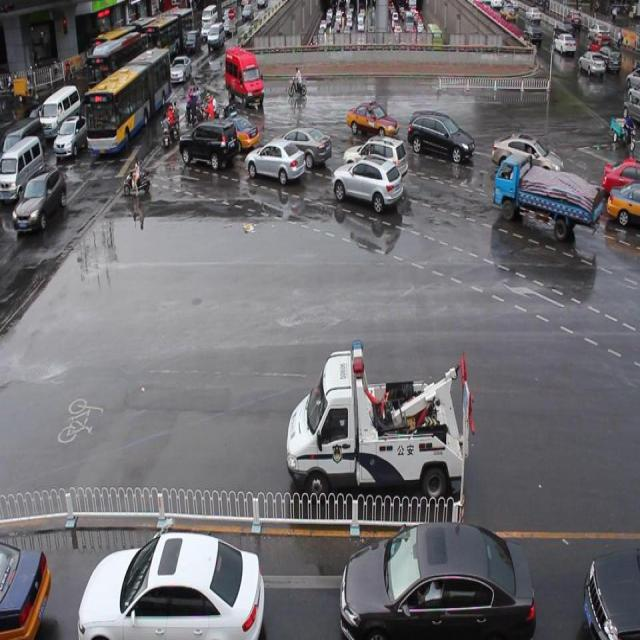bus: (285, 338, 464, 498), (494, 152, 599, 239)
car: (490, 129, 562, 186), (331, 158, 402, 213), (406, 107, 474, 164), (342, 132, 408, 184), (266, 123, 332, 169), (244, 137, 305, 183), (346, 99, 398, 140), (604, 179, 640, 230), (213, 114, 259, 152), (600, 157, 640, 199)
truck: (179, 118, 237, 168), (224, 47, 264, 107)
